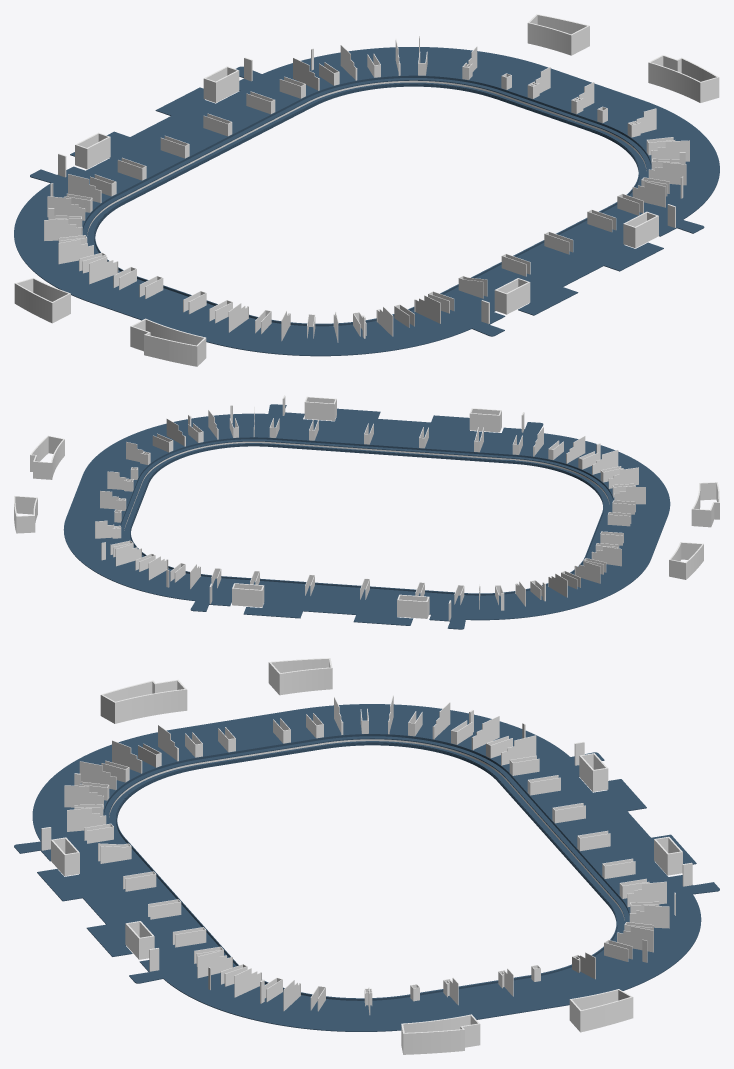
The model's file is 3Fcolor.glb.
3 views of the same model, one above another, from view 1: azimuth 30°, elevation 25°; view 2: azimuth 150°, elevation 25°; view 3: azimuth 270°, elevation 25° (orthographic). The views are drawn at different scales.
Parts seen in each view (by area): view 1: 楼板 地下室地面 [2294864].231, 楼板 31 楼板 18 [1510249].60, 楼板 32 楼板 20 [1510271].61, 楼板 24 楼板 19 [1510091].53, 基本墙 剪力墙 300 [1502384].37, 基本墙 剪力墙 300 [1502414].43, 楼板 27 楼板 21 [1510160].56, 楼板 22 楼板 22 [1510045].51, 基本墙 剪力墙 300 [1502344].21, 基本墙 JZQ-120 [1952275].209, 基本墙 JZQ-120 [1952296].210, 基本墙 JZQ-120 [1952461].218 (+10 smaller); view 2: 楼板 地下室地面 [2294864].231, 楼板 18 楼板 18 [1509955].47, 楼板 19 楼板 19 [1509978].48, 楼板 20 楼板 20 [1510000].49, 楼板 29 楼板 20 [1510205].58, 楼板 21 楼板 21 [1510023].50, 楼板 24 楼板 19 [1510091].53, 楼板 26 楼板 21 [1510137].55, 基本墙 200 [2233992].225, 楼板 31 楼板 18 [1510249].60, 基本墙 JZQ-120 [1952317].211, 基本墙 JZQ-120 [1952584].222 (+4 smaller); view 3: 楼板 地下室地面 [2294864].231, 楼板 31 楼板 18 [1510249].60, 基本墙 剪力墙 300 [1502344].21, 楼板 33 楼板 20 [1510293].62, 基本墙 剪力墙 300 [1502388].39, 楼板 24 楼板 19 [1510091].53, 基本墙 剪力墙 300 [1502418].45, 基本墙 剪力墙 300 [1502288].3, 楼板 28 楼板 21 [1510183].57, 楼板 29 楼板 20 [1510205].58, 楼板 30 楼板 22 [1510227].59, 楼板 26 楼板 21 [1510137].55 (+10 smaller).
Boxes of the visible parts, x1,y1,x2,y2 form: 楼板 地下室地面 [2294864].231: (14,47,719,356); 楼板 31 楼板 18 [1510249].60: (114,97,308,199); 楼板 32 楼板 20 [1510271].61: (304,74,503,101); 楼板 24 楼板 19 [1510091].53: (119,103,313,203); 基本墙 剪力墙 300 [1502384].37: (648,62,701,102); 基本墙 剪力墙 300 [1502414].43: (527,22,572,55); 楼板 27 楼板 21 [1510160].56: (308,82,499,106); 楼板 22 楼板 22 [1510045].51: (500,89,599,126); 基本墙 剪力墙 300 [1502344].21: (145,318,204,345); 基本墙 JZQ-120 [1952275].209: (44,219,81,240); 基本墙 JZQ-120 [1952296].210: (58,239,93,264); 基本墙 JZQ-120 [1952461].218: (649,162,686,185); 楼板 地下室地面 [2294864].231: (63,404,670,629); 楼板 18 楼板 18 [1509955].47: (271,436,516,458); 楼板 19 楼板 19 [1509978].48: (271,443,515,463); 楼板 20 楼板 20 [1510000].49: (138,436,272,480); 楼板 29 楼板 20 [1510205].58: (515,453,614,512); 楼板 21 楼板 21 [1510023].50: (142,443,271,483); 楼板 24 楼板 19 [1510091].53: (221,576,454,594); 楼板 26 楼板 21 [1510137].55: (514,460,609,515); 基本墙 200 [2233992].225: (272,442,515,459); 楼板 31 楼板 18 [1510249].60: (222,578,460,596); 基本墙 JZQ-120 [1952317].211: (592,546,621,566); 基本墙 JZQ-120 [1952584].222: (115,544,141,566); 楼板 地下室地面 [2294864].231: (14,704,719,1031); 楼板 31 楼板 18 [1510249].60: (505,774,620,900); 基本墙 剪力墙 300 [1502344].21: (115,689,187,723); 楼板 33 楼板 20 [1510293].62: (320,732,510,777); 基本墙 剪力墙 300 [1502388].39: (405,1029,464,1054); 楼板 24 楼板 19 [1510091].53: (498,779,614,904); 基本墙 剪力墙 300 [1502418].45: (579,997,631,1032); 基本墙 剪力墙 300 [1502288].3: (279,667,330,695); 楼板 28 楼板 21 [1510183].57: (322,741,505,781); 楼板 29 楼板 20 [1510205].58: (103,756,200,839); 楼板 30 楼板 22 [1510227].59: (199,737,321,762); 楼板 26 楼板 21 [1510137].55: (109,764,203,841).
Bounding box in the file's own units: 151396 × 5150 × 120251.
Materials: 235 (17 with a texture image).
